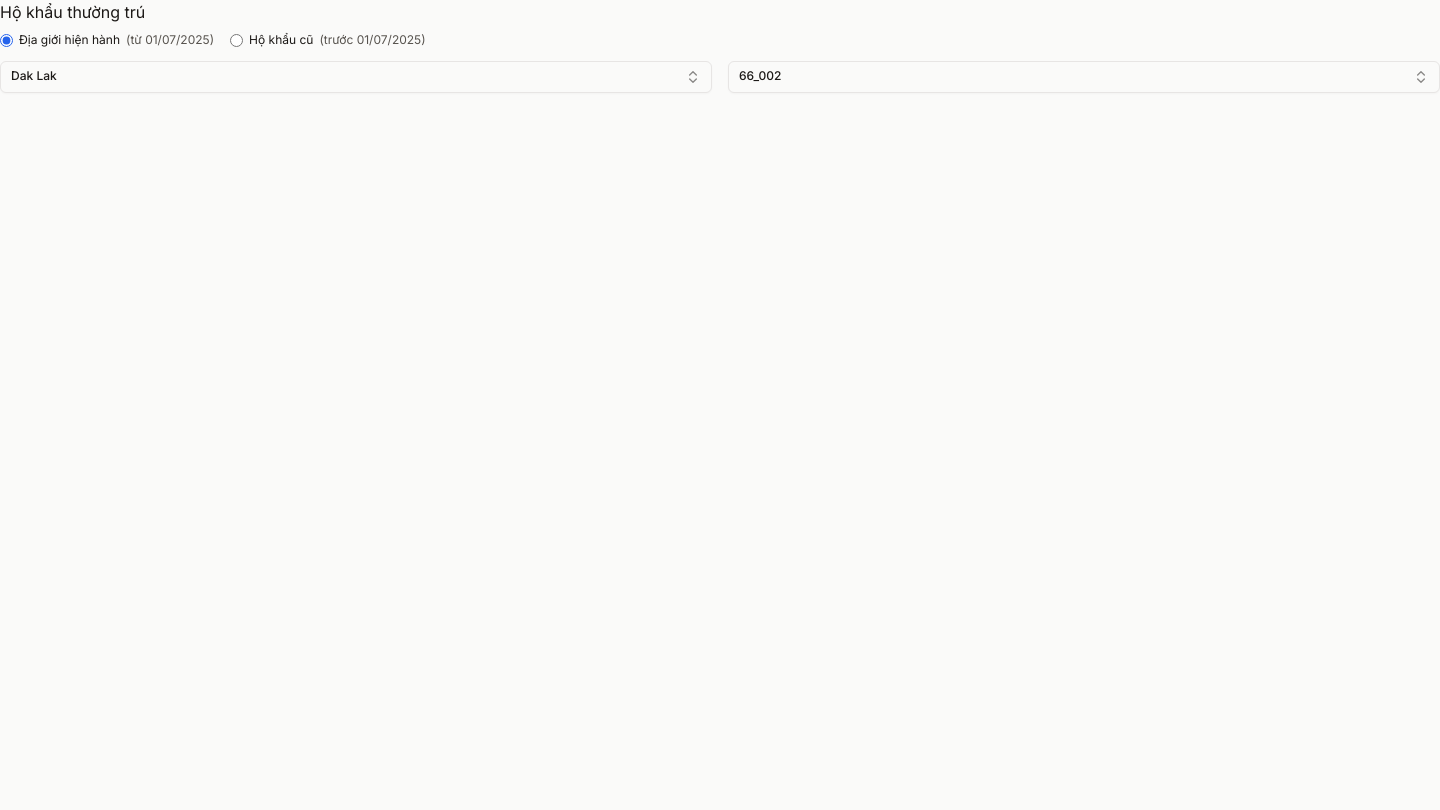
it: AdaptiveAddressSelect › cancelling mode switch preserves the current address
Click the radio button labelled "Hộ khẩu cũ (trước 01/07/2025)": (237, 40) [230,34,243,47]
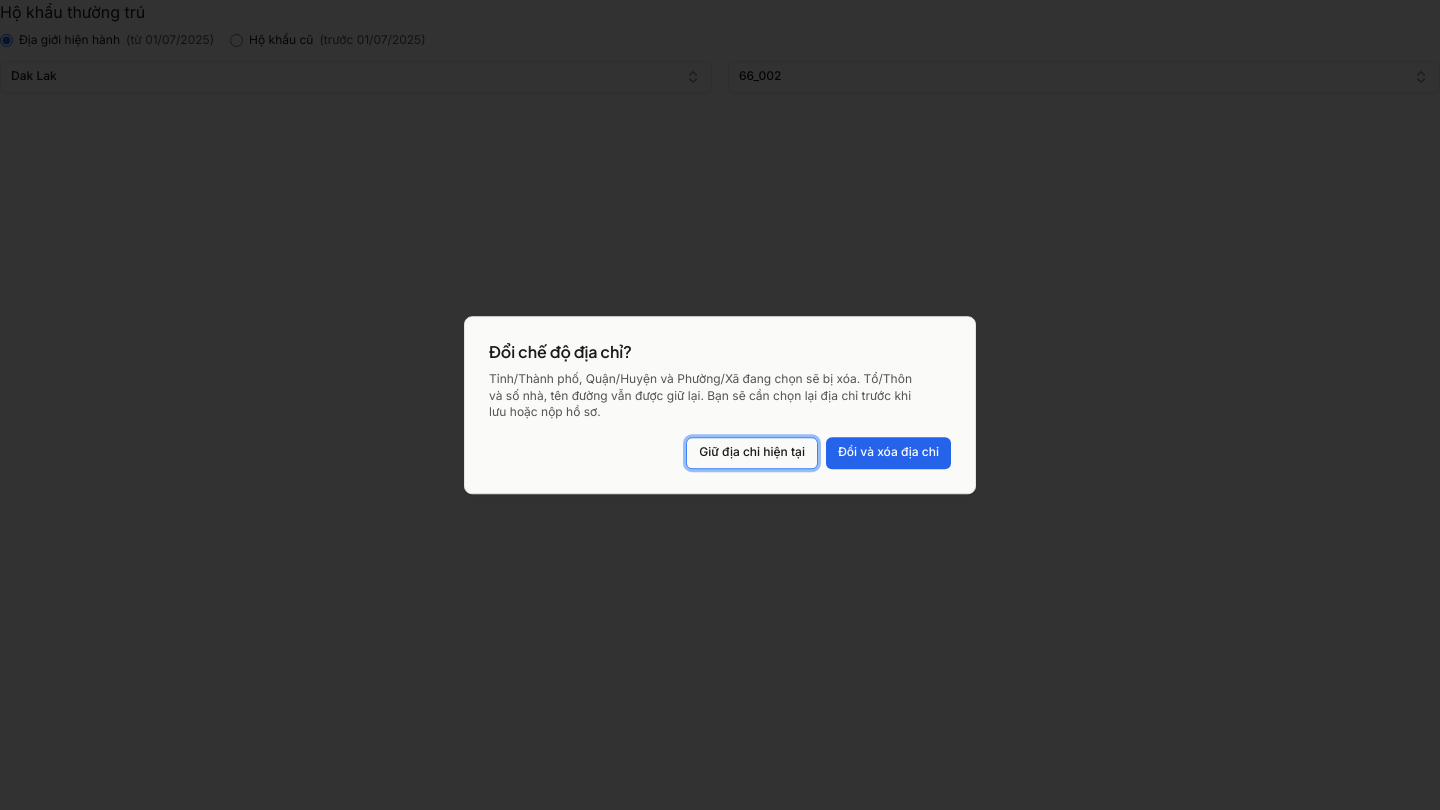
Click the button "Giữ địa chỉ hiện tại": (752, 453) [686,437,818,469]
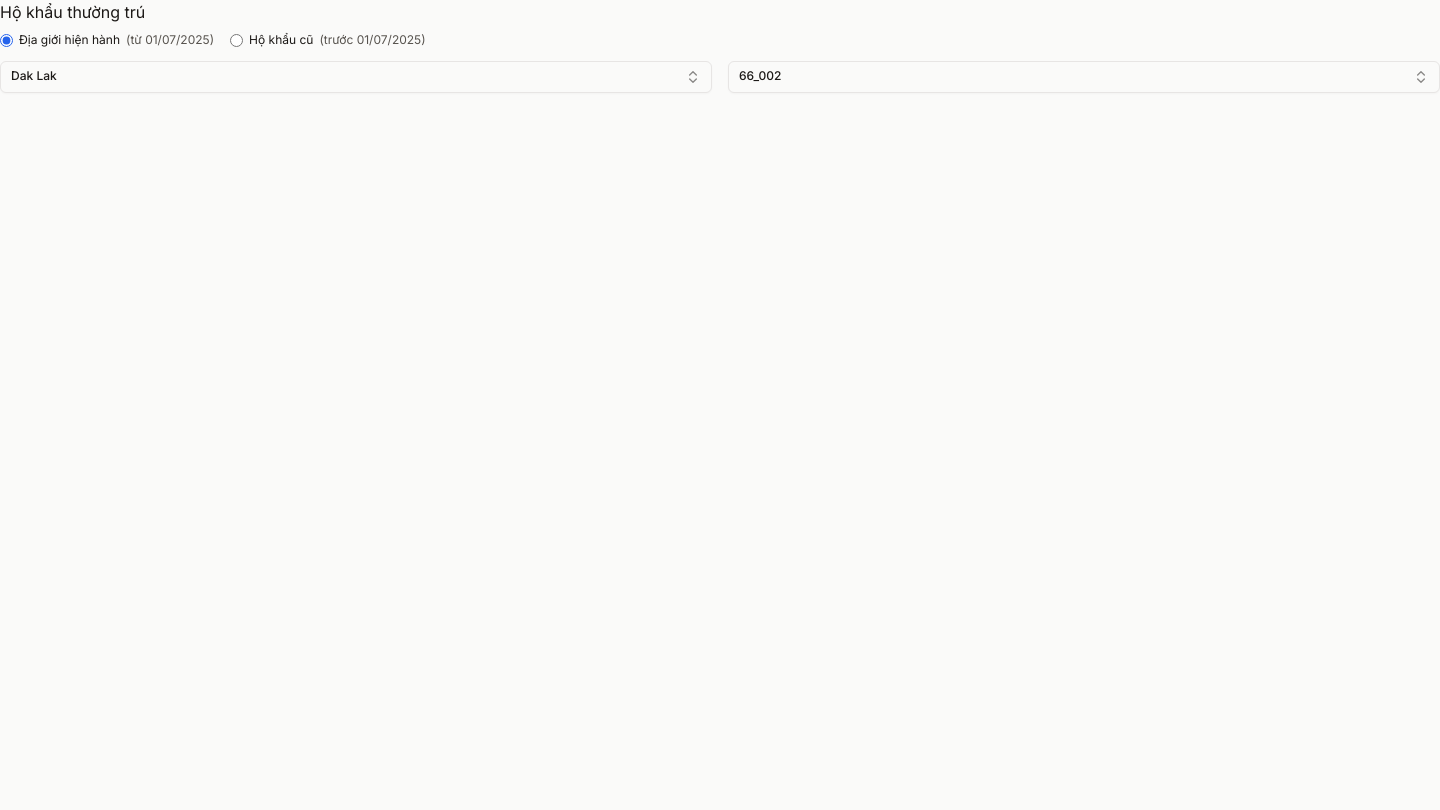
expect the heading "Đổi chế độ địa chỉ?" is gone: met
